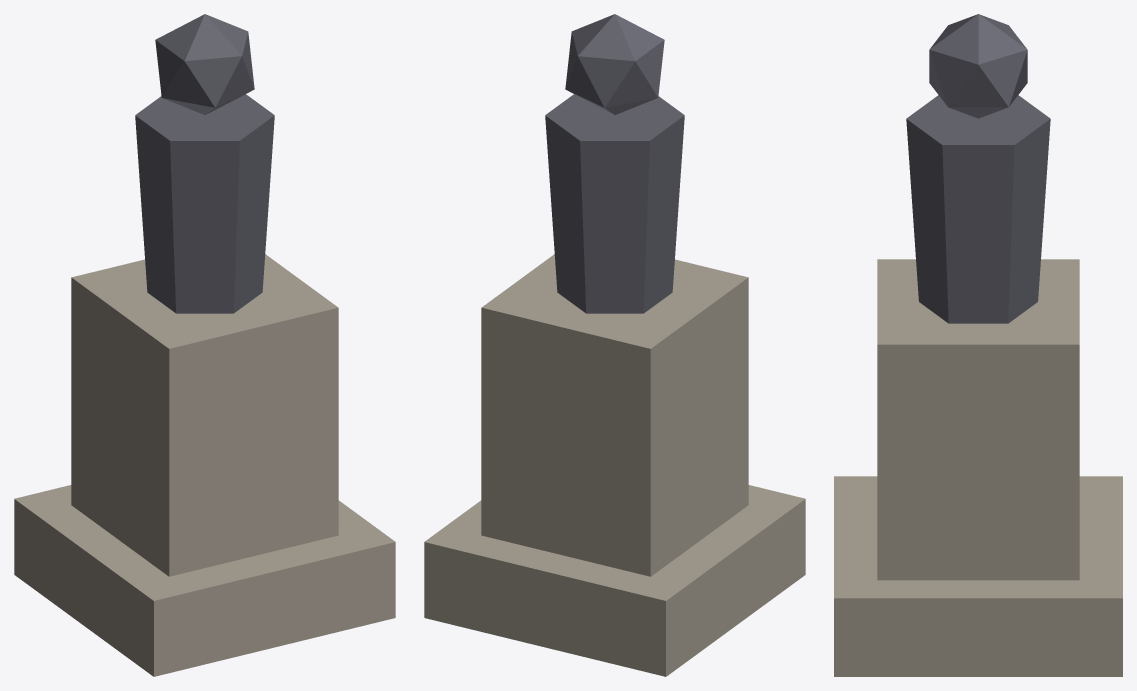
Rendered from statue_pedestal.glb.
3 renders of one model, left to right at view 1: azimuth 30°, elevation 25°; view 2: azimuth 150°, elevation 25°; view 3: azimuth 270°, elevation 25°, orthographic. The views are drawn at different scales.
Parts seen in each view (by area): view 1: statue_pedestal; view 2: statue_pedestal; view 3: statue_pedestal.
Part boxes in pixels (x1=…): statue_pedestal: x1=14, y1=14, x2=395, y2=676; statue_pedestal: x1=424, y1=14, x2=805, y2=676; statue_pedestal: x1=834, y1=14, x2=1122, y2=676.
Size of the model in its own units: 1 by 2.3 by 1.
